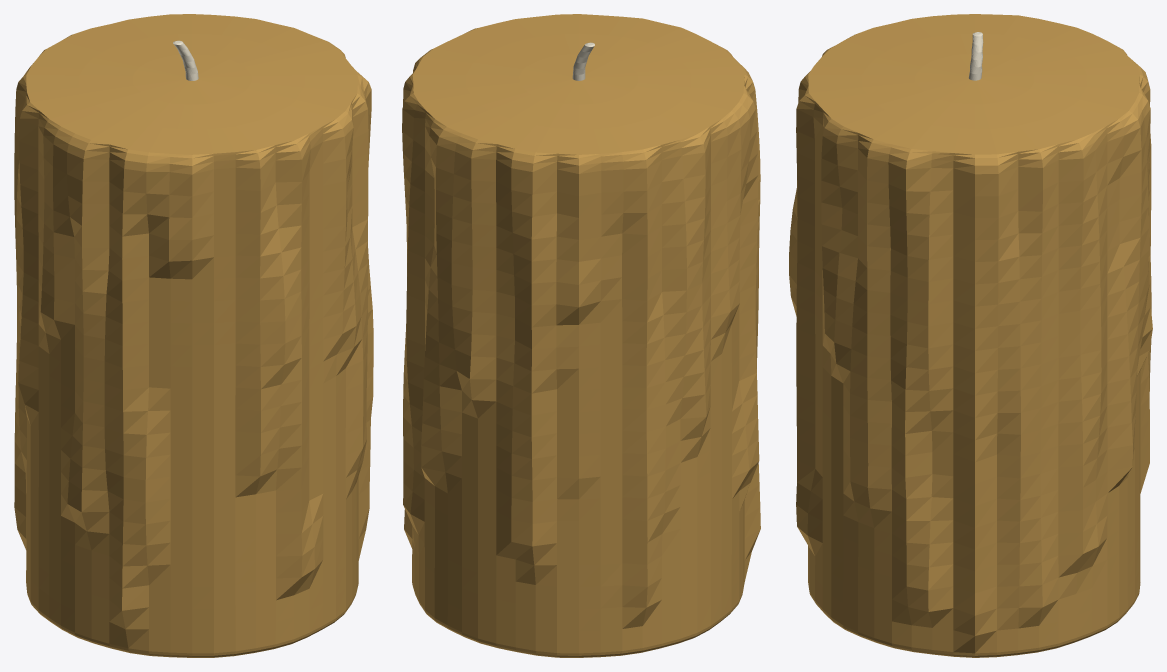
The picture shows the model from 3 angles, left to right: view 1: azimuth 30°, elevation 25°; view 2: azimuth 150°, elevation 25°; view 3: azimuth 270°, elevation 25°; orthographic projection.
Visible parts, largest first — view 1: NEW568_LOD2_v003; view 2: NEW568_LOD2_v003; view 3: NEW568_LOD2_v003.
Boxes of the visible parts, bbox=[...] form: NEW568_LOD2_v003: bbox=[14, 14, 373, 657]; NEW568_LOD2_v003: bbox=[402, 14, 760, 657]; NEW568_LOD2_v003: bbox=[789, 14, 1152, 657].
Size of the model in its own units: 0.0807 by 0.1365 by 0.0818.
